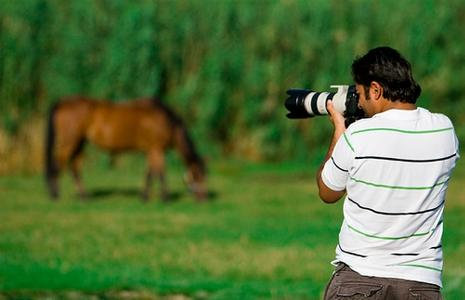person: (318, 46, 461, 300)
